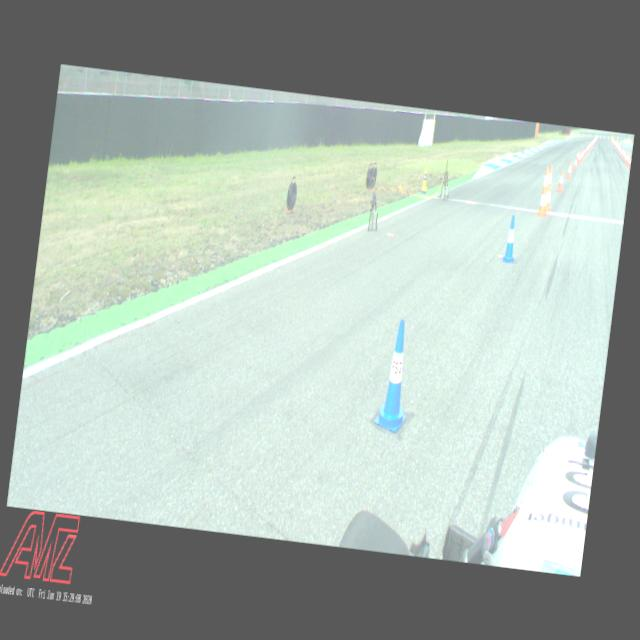blue_cone: (373, 317, 417, 433), (502, 214, 520, 263)
large_orange_cone: (536, 165, 553, 217), (544, 164, 556, 212)
orange_cone: (556, 170, 566, 192), (566, 161, 572, 179), (572, 155, 578, 170), (576, 152, 582, 164), (628, 155, 632, 168), (626, 154, 630, 166), (624, 152, 628, 162), (622, 150, 626, 160), (620, 147, 624, 156), (580, 150, 583, 161), (576, 150, 579, 160), (582, 149, 584, 160), (584, 147, 586, 156), (618, 146, 621, 152), (586, 145, 588, 153)
yellow_cone: (420, 166, 429, 190)
